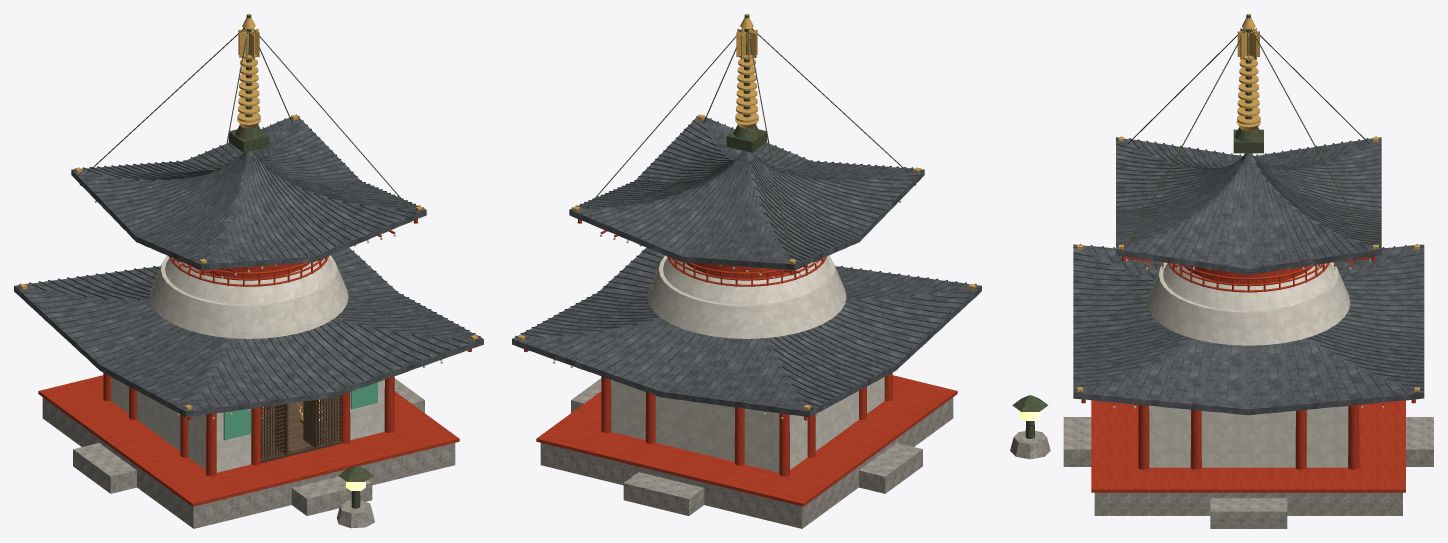
Rendered from konpon_daito.glb.
3 views of the same model, side by side, from view 1: azimuth 30°, elevation 25°; view 2: azimuth 150°, elevation 25°; view 3: azimuth 270°, elevation 25° (orthographic). The views are drawn at different scales.
Visible parts, largest first — view 1: TojiMerged_Kukai_KawaraTile_TemplePBR, TojiMerged_Kukai_Vermilion_TemplePBR, TojiMerged_Kukai_WhitePlaster_TemplePBR, TojiMerged_Kukai_GraniteStone_TemplePBR, TojiMerged_Kukai_BronzeSorin_TemplePBR, TojiMerged_Kukai_HinokiDark_TemplePBR, TojiMerged_Kukai_SacredGold_TemplePBR, TojiMerged_Kukai_HinokiWarm_TemplePBR, TojiMerged_Kukai_RenjiGreen; view 2: TojiMerged_Kukai_KawaraTile_TemplePBR, TojiMerged_Kukai_WhitePlaster_TemplePBR, TojiMerged_Kukai_Vermilion_TemplePBR, TojiMerged_Kukai_GraniteStone_TemplePBR, TojiMerged_Kukai_BronzeSorin_TemplePBR, TojiMerged_Kukai_SacredGold_TemplePBR; view 3: TojiMerged_Kukai_KawaraTile_TemplePBR, TojiMerged_Kukai_WhitePlaster_TemplePBR, TojiMerged_Kukai_Vermilion_TemplePBR, TojiMerged_Kukai_GraniteStone_TemplePBR, TojiMerged_Kukai_BronzeSorin_TemplePBR, TojiMerged_Kukai_SacredGold_TemplePBR.
Part boxes in pixels (x1,y1,x2,y2): TojiMerged_Kukai_KawaraTile_TemplePBR: [14, 114, 483, 417]; TojiMerged_Kukai_Vermilion_TemplePBR: [38, 184, 471, 506]; TojiMerged_Kukai_WhitePlaster_TemplePBR: [95, 200, 442, 472]; TojiMerged_Kukai_GraniteStone_TemplePBR: [42, 378, 455, 528]; TojiMerged_Kukai_BronzeSorin_TemplePBR: [86, 14, 411, 508]; TojiMerged_Kukai_HinokiDark_TemplePBR: [261, 395, 342, 463]; TojiMerged_Kukai_SacredGold_TemplePBR: [19, 14, 478, 416]; TojiMerged_Kukai_HinokiWarm_TemplePBR: [261, 396, 339, 457]; TojiMerged_Kukai_RenjiGreen: [223, 382, 377, 440]; TojiMerged_Kukai_KawaraTile_TemplePBR: [512, 114, 981, 417]; TojiMerged_Kukai_WhitePlaster_TemplePBR: [553, 200, 900, 472]; TojiMerged_Kukai_Vermilion_TemplePBR: [524, 184, 957, 506]; TojiMerged_Kukai_GraniteStone_TemplePBR: [540, 378, 953, 528]; TojiMerged_Kukai_BronzeSorin_TemplePBR: [585, 14, 908, 259]; TojiMerged_Kukai_SacredGold_TemplePBR: [517, 14, 976, 409]; TojiMerged_Kukai_KawaraTile_TemplePBR: [1073, 136, 1424, 415]; TojiMerged_Kukai_WhitePlaster_TemplePBR: [1113, 259, 1383, 467]; TojiMerged_Kukai_Vermilion_TemplePBR: [1081, 256, 1415, 492]; TojiMerged_Kukai_GraniteStone_TemplePBR: [1010, 417, 1433, 528]; TojiMerged_Kukai_BronzeSorin_TemplePBR: [1012, 14, 1370, 438]; TojiMerged_Kukai_SacredGold_TemplePBR: [1077, 14, 1419, 391].
Size of the model in its own units: 17.3 by 22.49 by 19.8.
Materials: 18 (9 with a texture image).
